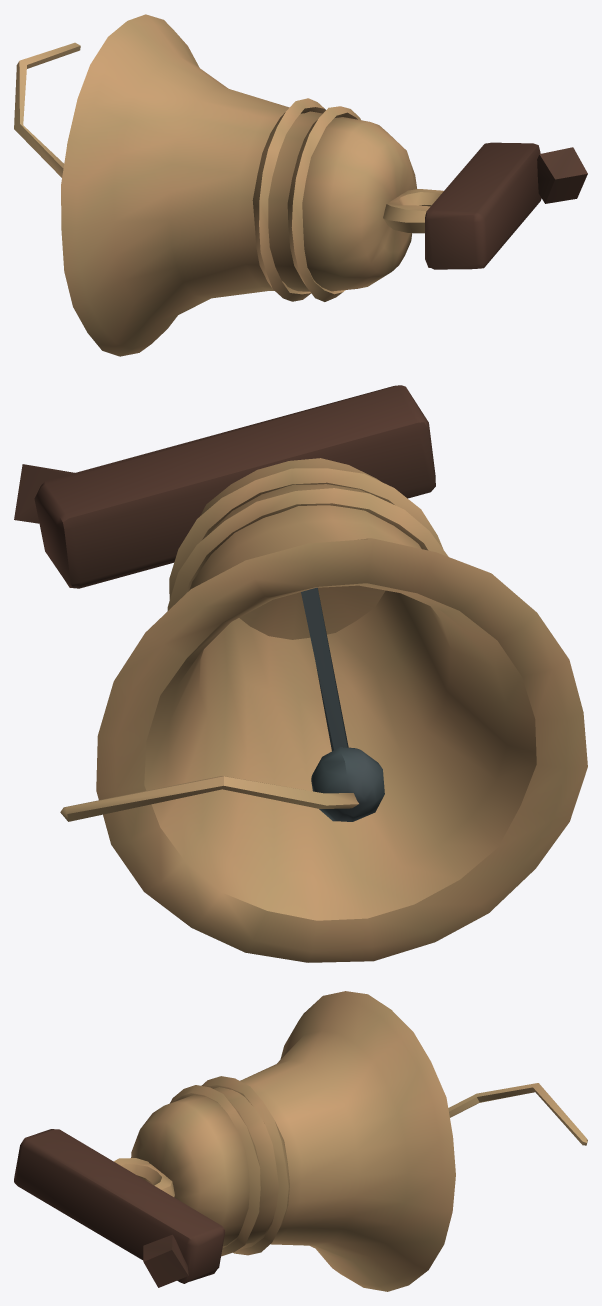
Rendered from find_bell.glb.
The picture shows the model from 3 angles, top to bottom: view 1: azimuth 30°, elevation 25°; view 2: azimuth 150°, elevation 25°; view 3: azimuth 270°, elevation 25°; orthographic projection. The views are drawn at different scales.
Parts seen in each view (by area): view 1: find_bell; view 2: find_bell; view 3: find_bell.
Boxes of the visible parts, bbox=[...] form: find_bell: bbox=[14, 14, 587, 356]; find_bell: bbox=[14, 385, 587, 962]; find_bell: bbox=[14, 991, 587, 1291].
Size of the model in its own units: 1.59 by 1.04 by 1.98.
